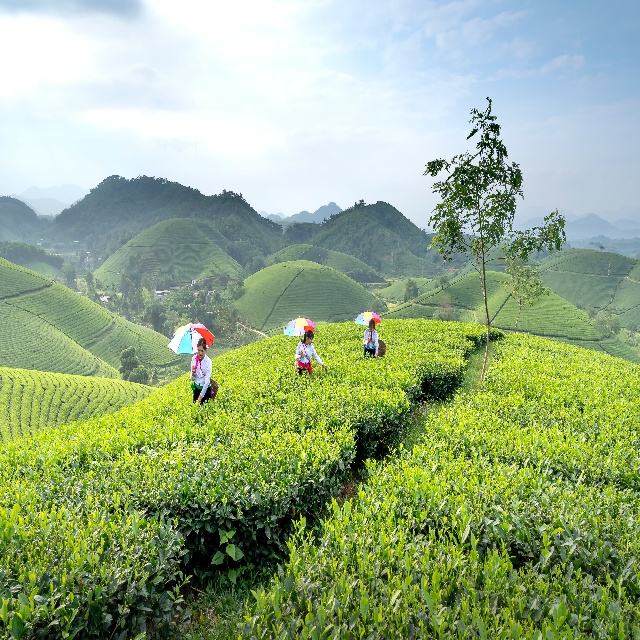Sin_guantes: (191, 365, 195, 374), (299, 349, 303, 357), (324, 364, 328, 370)
